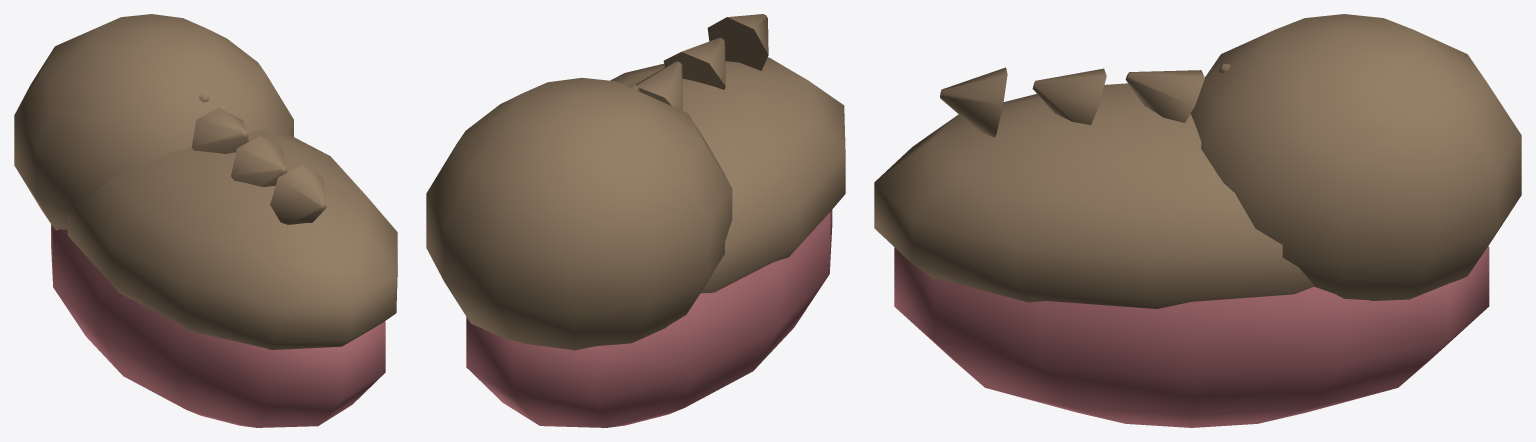
The model's file is chimera_c_body.obj.
3 renders of one model, left to right at view 1: azimuth 30°, elevation 25°; view 2: azimuth 150°, elevation 25°; view 3: azimuth 270°, elevation 25°, orthographic. The views are drawn at different scales.
Visible parts, largest first — view 1: source_component_001, source_component_002, source_component_000, source_component_007, source_component_006, source_component_005; view 2: source_component_002, source_component_000, source_component_001, source_component_007, source_component_006, source_component_005; view 3: source_component_002, source_component_001, source_component_000, source_component_005, source_component_007, source_component_006.
Boxes of the visible parts, x1,y1,x2,y2 form: source_component_001: (67, 130, 397, 349); source_component_002: (14, 14, 293, 230); source_component_000: (51, 224, 385, 427); source_component_007: (270, 165, 326, 224); source_component_006: (231, 136, 287, 186); source_component_005: (191, 108, 248, 153); source_component_002: (426, 77, 732, 350); source_component_000: (466, 210, 832, 427); source_component_001: (610, 57, 845, 293); source_component_007: (707, 14, 768, 70); source_component_006: (663, 37, 725, 89); source_component_005: (635, 61, 682, 110); source_component_002: (1190, 14, 1521, 300); source_component_001: (874, 83, 1314, 308); source_component_000: (894, 246, 1489, 427); source_component_005: (1125, 70, 1204, 122); source_component_007: (940, 67, 1007, 137); source_component_006: (1032, 68, 1106, 124).
Bounding box in the file's own units: 0.6824 × 0.85 × 1.32.
